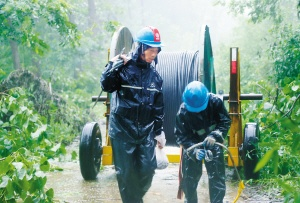blue: (134, 26, 163, 64), (182, 80, 210, 116)
